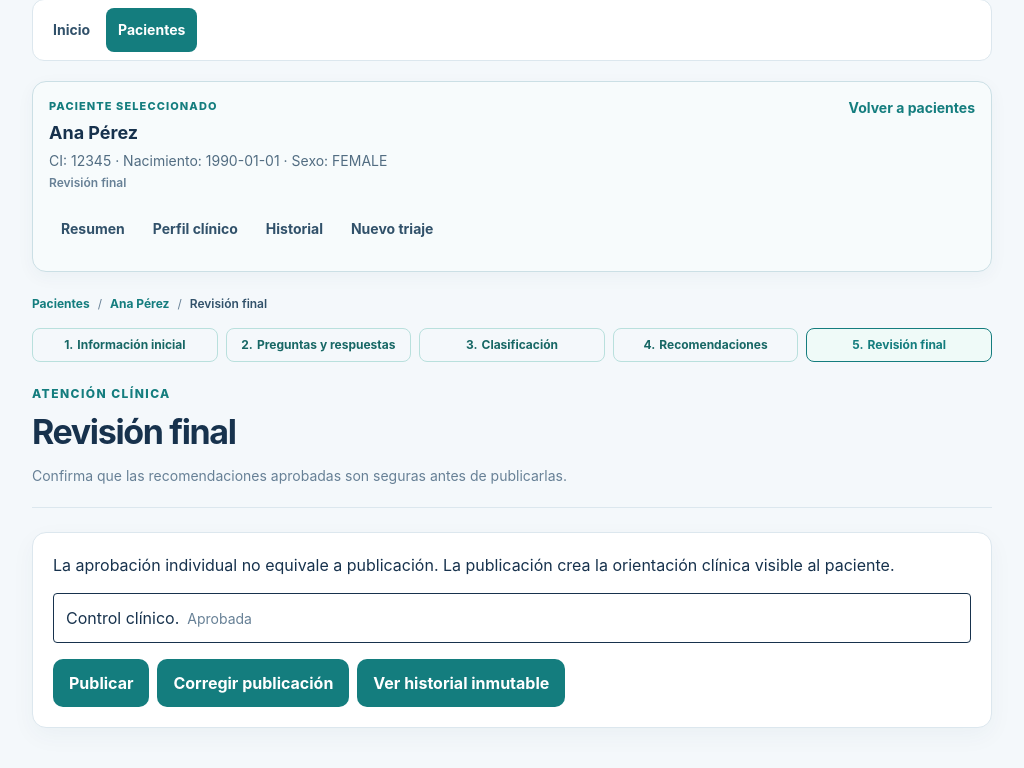
Test: final review and publication workflow › shows final review, distinguishes approval from publication, and publishes safely
(page scrolled)
Check: the heading "Revisión final" is shown, box [32, 410, 236, 452]
Check: the text "La aprobación individual no equivale a publicación" is shown, box [53, 555, 894, 575]
Click the button "Publicar" at (101, 683), box [53, 659, 150, 707]
(page scrolled)
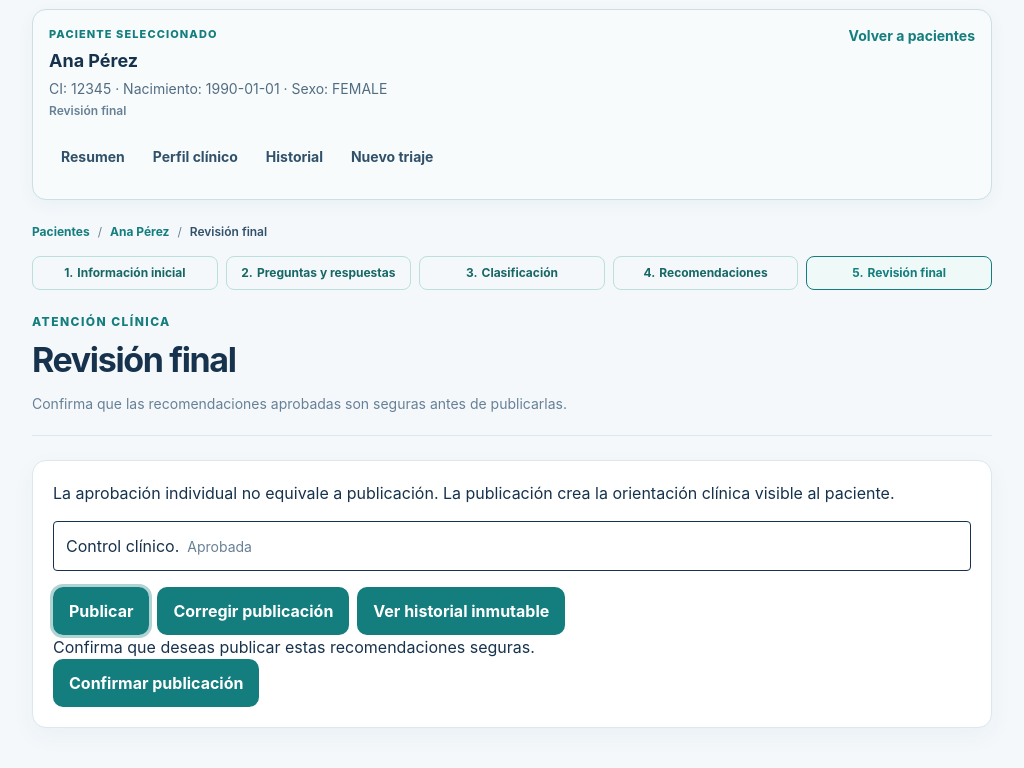
Click the button "Confirmar publicación" at (156, 683), box [53, 659, 260, 707]
(page scrolled)
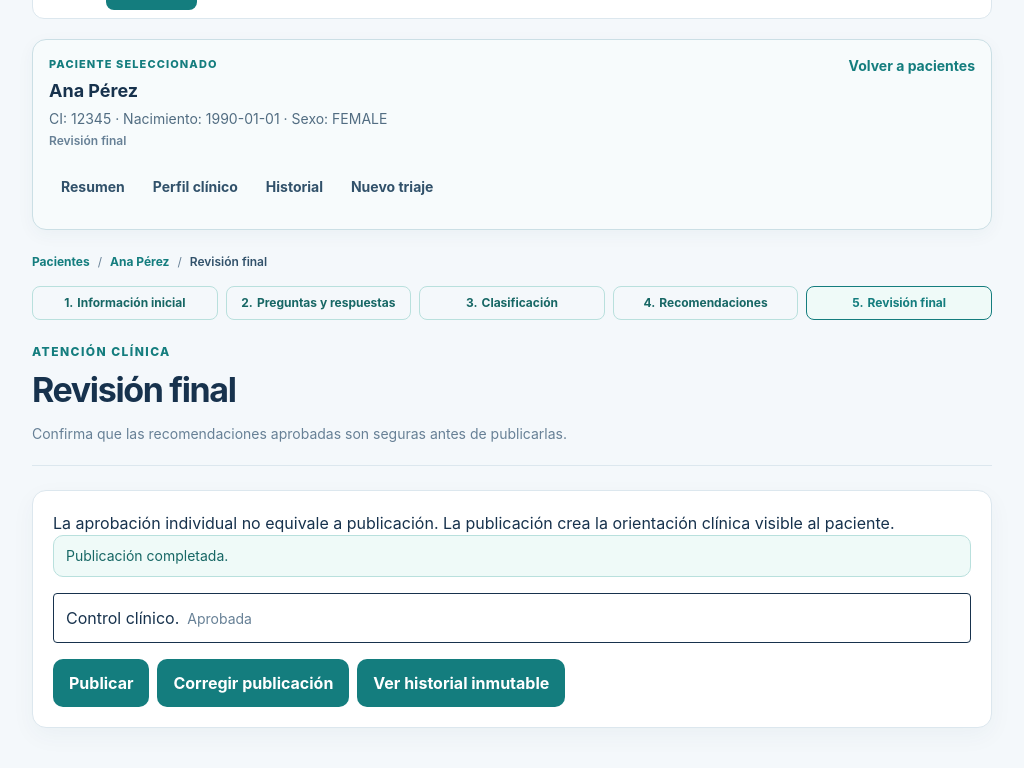
Check: the message reads "Publicación completada.", box [66, 547, 228, 564]
